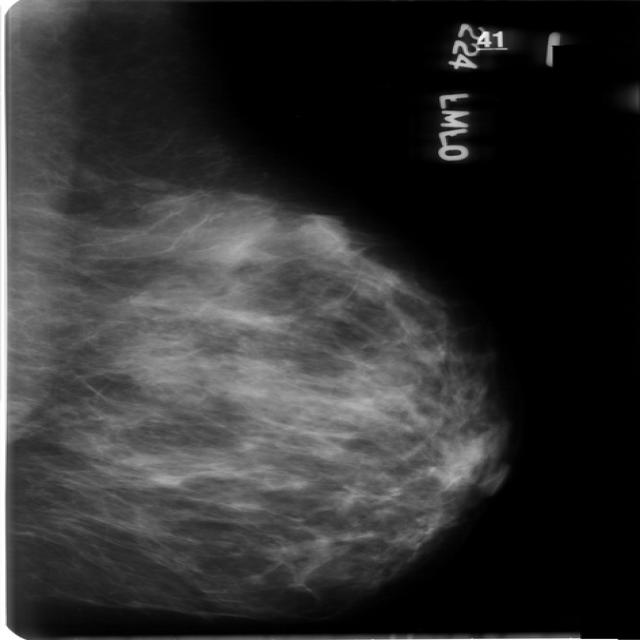tumour: (297, 213, 348, 259)
